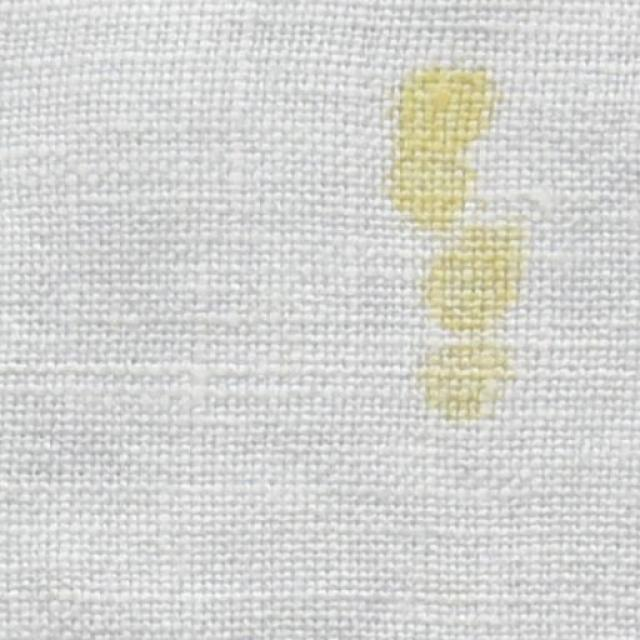Stain: (388, 65, 530, 412)
